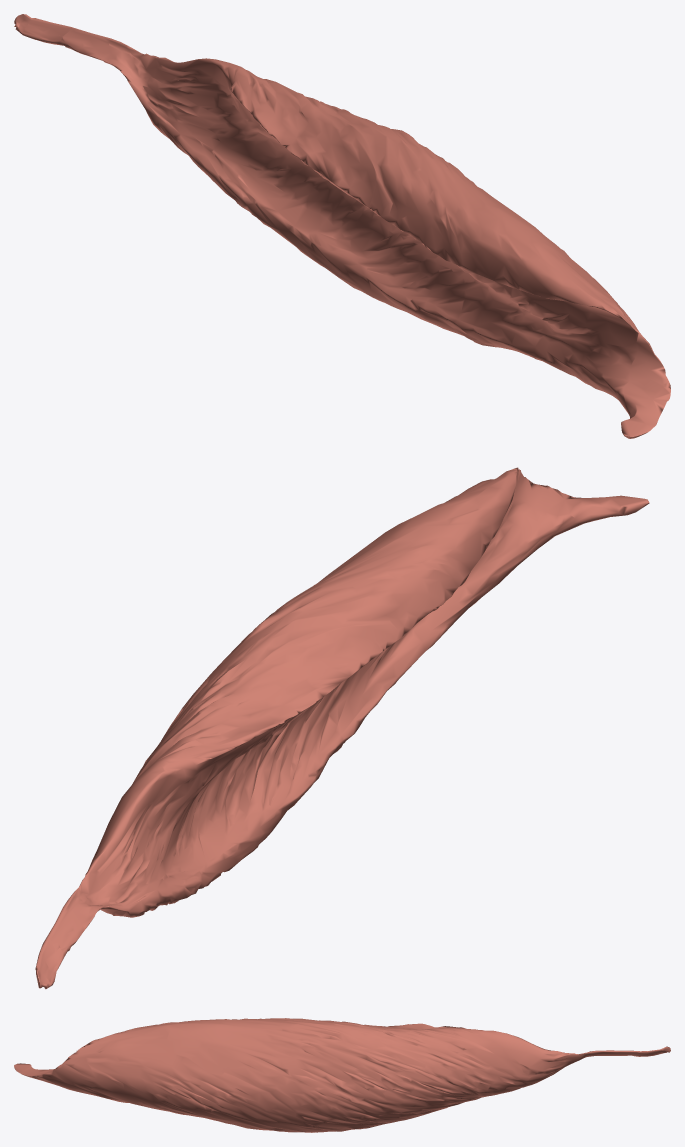
The picture shows the model from 3 angles, top to bottom: view 1: azimuth 30°, elevation 25°; view 2: azimuth 150°, elevation 25°; view 3: azimuth 270°, elevation 25°; orthographic projection. The views are drawn at different scales.
Visible parts, largest first — view 1: 左侧股外侧肌; view 2: 左侧股外侧肌; view 3: 左侧股外侧肌.
Part boxes in pixels (x1=…): 左侧股外侧肌: x1=14, y1=14, x2=670, y2=438; 左侧股外侧肌: x1=35, y1=467, x2=649, y2=989; 左侧股外侧肌: x1=14, y1=1018, x2=670, y2=1132.
Size of the model in its own units: 0.1091 by 0.1167 by 0.6739.
